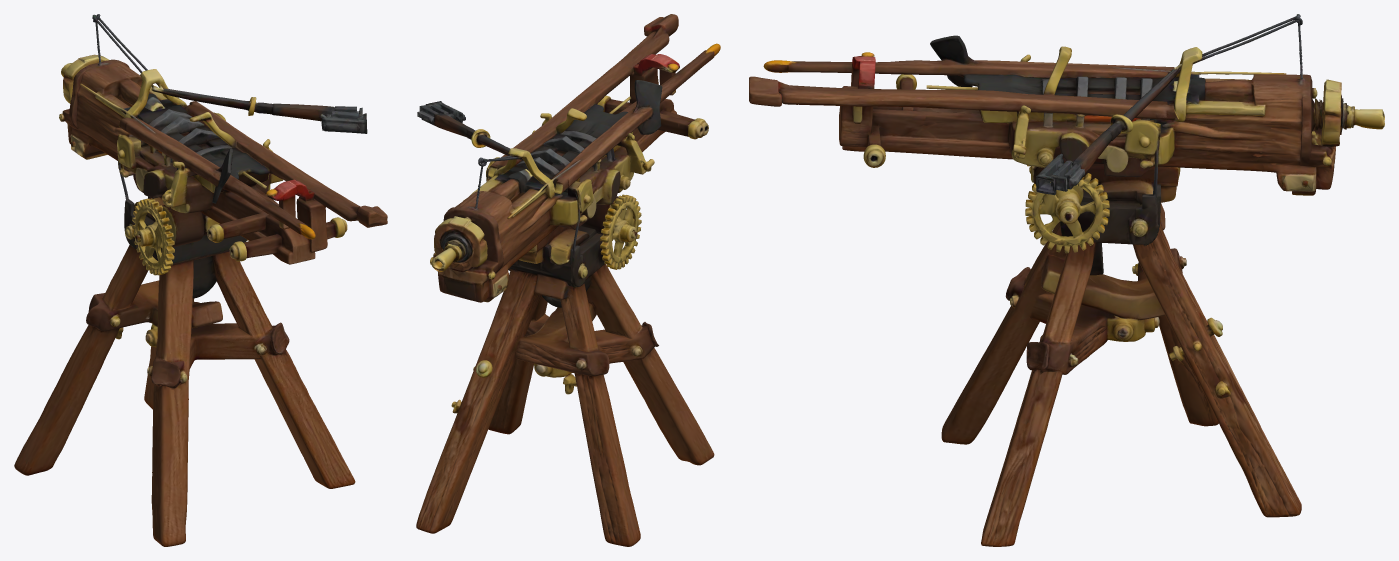
The model's file is s-turret.glb.
3 renders of one model, left to right at view 1: azimuth 30°, elevation 25°; view 2: azimuth 150°, elevation 25°; view 3: azimuth 270°, elevation 25°, orthographic. The views are drawn at different scales.
Parts seen in each view (by area): view 1: tripo_node_6a63630c-78fc-4df2-a417-345d8df766b1; view 2: tripo_node_6a63630c-78fc-4df2-a417-345d8df766b1; view 3: tripo_node_6a63630c-78fc-4df2-a417-345d8df766b1.
Boxes of the visible parts, left/top/right/bottom form: tripo_node_6a63630c-78fc-4df2-a417-345d8df766b1: left=14, top=14, right=387, bottom=546; tripo_node_6a63630c-78fc-4df2-a417-345d8df766b1: left=416, top=14, right=720, bottom=546; tripo_node_6a63630c-78fc-4df2-a417-345d8df766b1: left=749, top=14, right=1384, bottom=546.
Size of the model in its own units: 0.5837 by 0.788 by 0.9787.
Materials: 1 (1 with a texture image).
